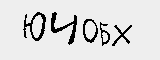Б: (98, 20, 109, 46)
О: (78, 17, 99, 43)
Х: (110, 22, 134, 47)
Ч: (49, 10, 81, 48)
Ю: (20, 8, 47, 42)
